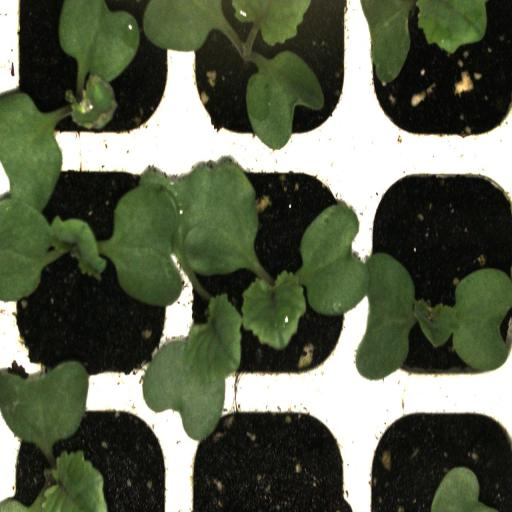Folha: (0, 360, 108, 512), (361, 0, 487, 83), (430, 466, 496, 512)
Germinacao: (178, 153, 356, 397), (10, 151, 178, 391), (357, 146, 512, 398), (181, 0, 359, 146), (9, 0, 180, 150)
